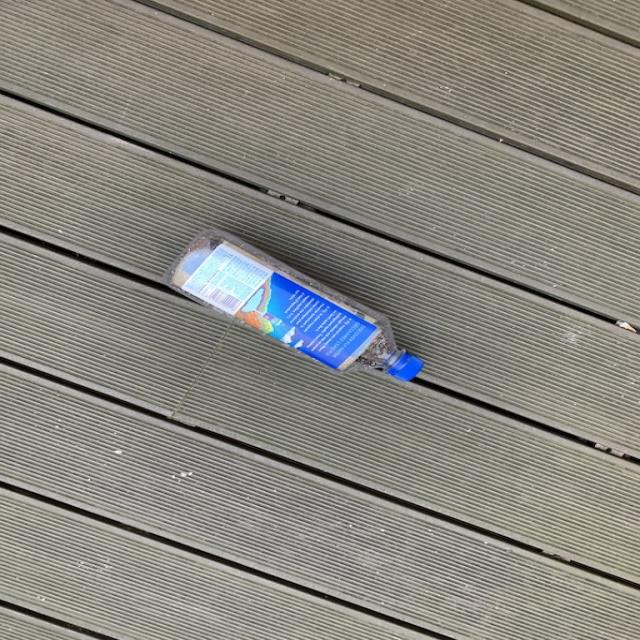Waste: (165, 229, 424, 381)
